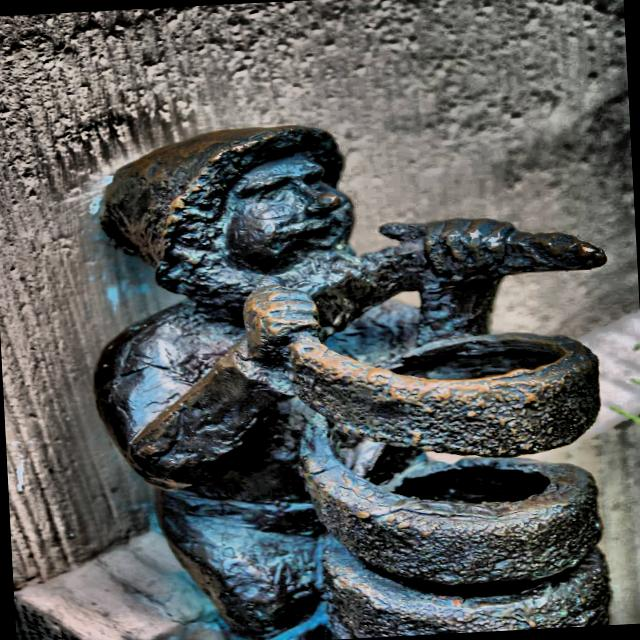Czimnejek: (83, 113, 636, 640)
